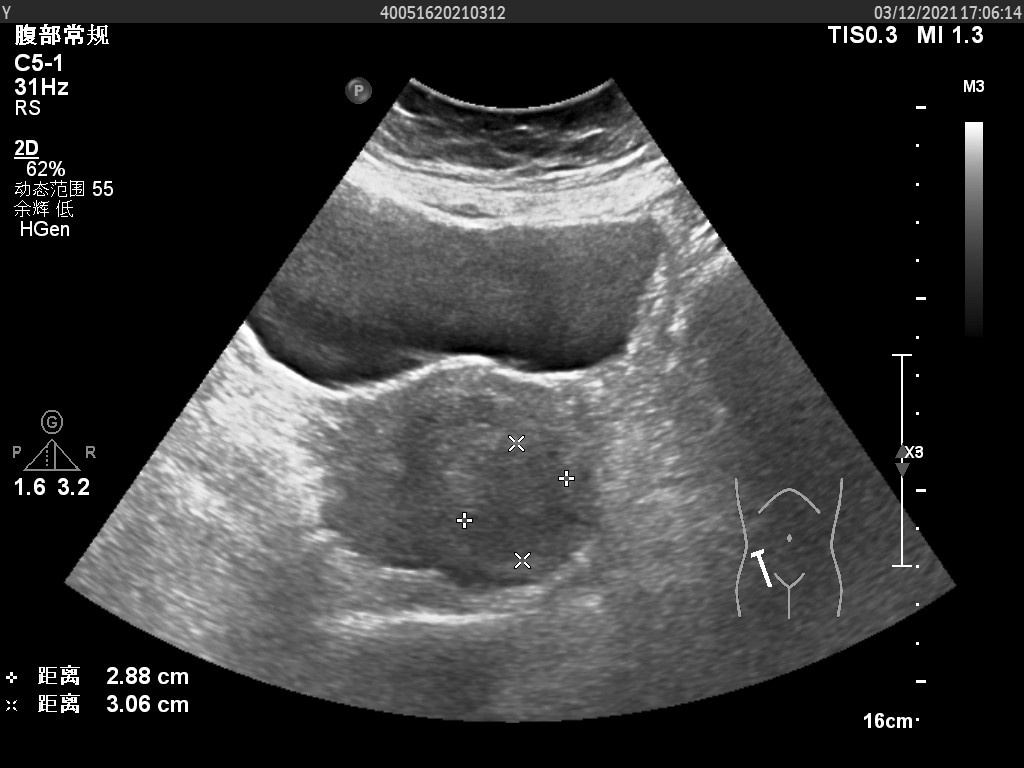肌瘤: (480, 447, 563, 547)
